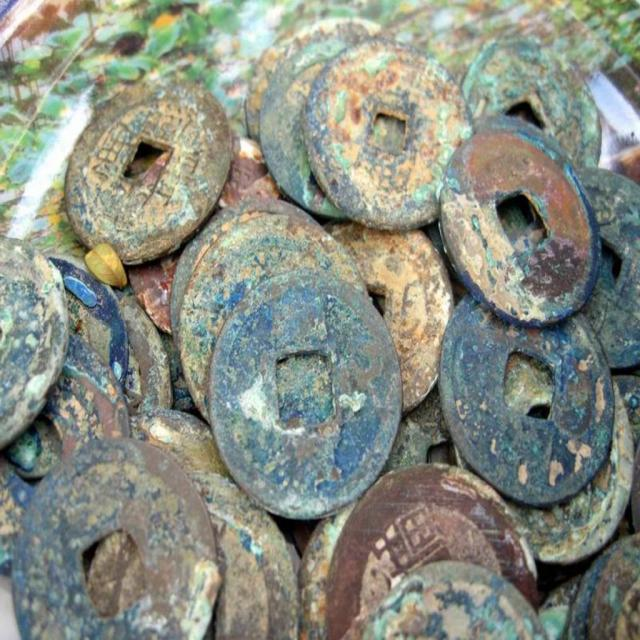Coin: (0, 12, 639, 639)
